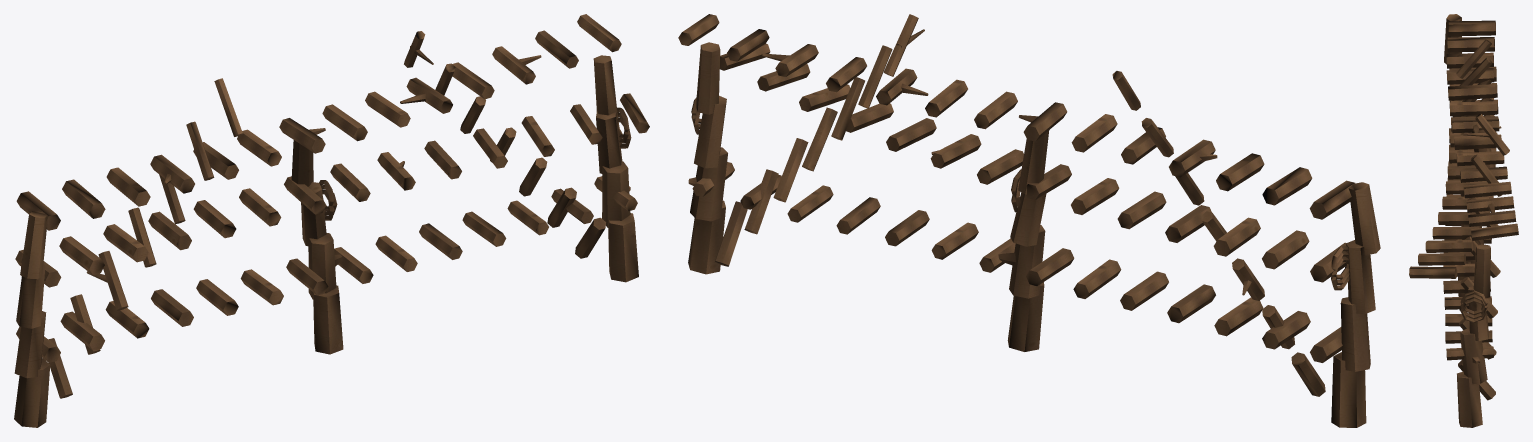
The model's file is brace.glb.
The picture shows the model from 3 angles, left to right: view 1: azimuth 30°, elevation 25°; view 2: azimuth 150°, elevation 25°; view 3: azimuth 270°, elevation 25°; orthographic projection. The views are drawn at different scales.
Parts seen in each view (by area): view 1: brace; view 2: brace; view 3: brace.
Part boxes in pixels (x1,y1,x2,y2): brace: [14, 14, 649, 427]; brace: [678, 14, 1380, 427]; brace: [1409, 14, 1518, 427].
Size of the model in its own units: 4.25 by 1.86 by 0.7985.
Materials: 1 (1 with a texture image).
